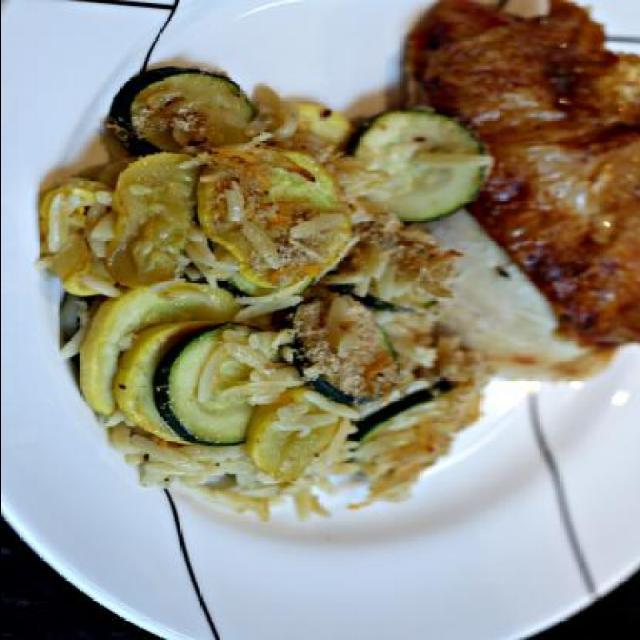Zucchini: (147, 318, 290, 447), (352, 108, 494, 226), (286, 286, 411, 414), (96, 68, 262, 164), (329, 377, 463, 461), (316, 242, 450, 318), (213, 252, 347, 304)
